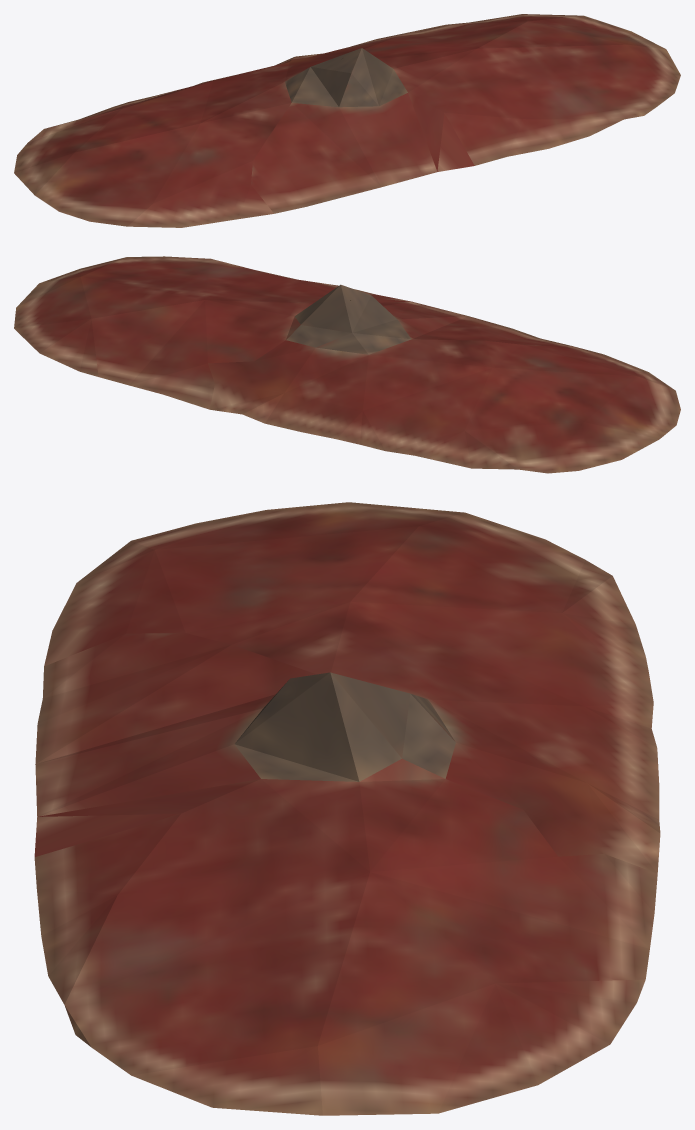
The model's file is prop_shield.glb.
The picture shows the model from 3 angles, top to bottom: view 1: azimuth 30°, elevation 25°; view 2: azimuth 150°, elevation 25°; view 3: azimuth 270°, elevation 25°; orthographic projection. The views are drawn at different scales.
Visible parts, largest first — view 1: lp.obj; view 2: lp.obj; view 3: lp.obj.
Boxes of the visible parts, box(x1,y1,x2,y2) form: lp.obj: box(14, 14, 680, 227); lp.obj: box(14, 256, 680, 473); lp.obj: box(34, 502, 660, 1115).
Size of the model in its own units: 1.1 by 0.1508 by 0.4774.
1 material, 1 textured.
